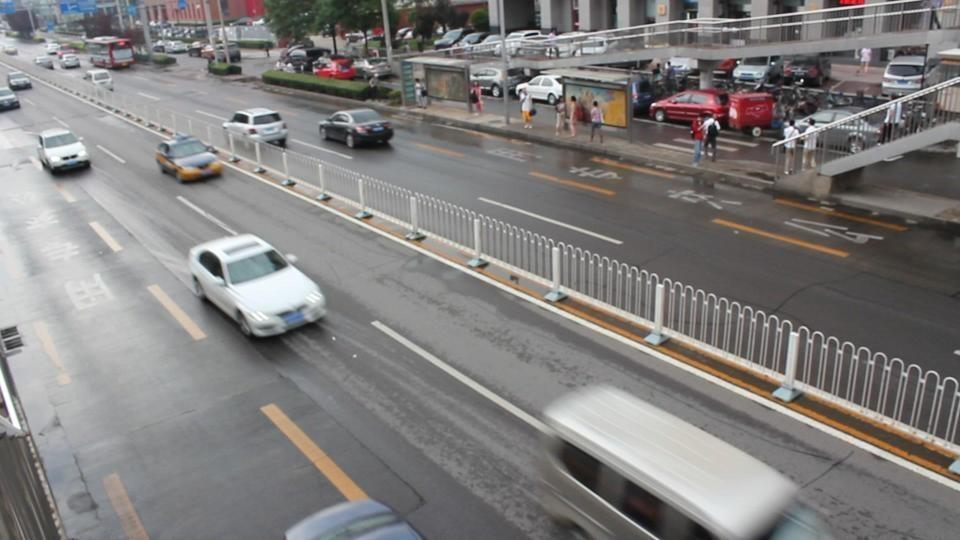car: (530, 381, 830, 537), (187, 231, 328, 340), (284, 497, 426, 539), (153, 132, 224, 183), (317, 108, 395, 148), (34, 124, 93, 175), (733, 54, 821, 88), (650, 89, 730, 124), (469, 65, 542, 99), (222, 109, 289, 146), (881, 51, 930, 98), (517, 75, 563, 103), (6, 72, 32, 92), (0, 87, 20, 113)
